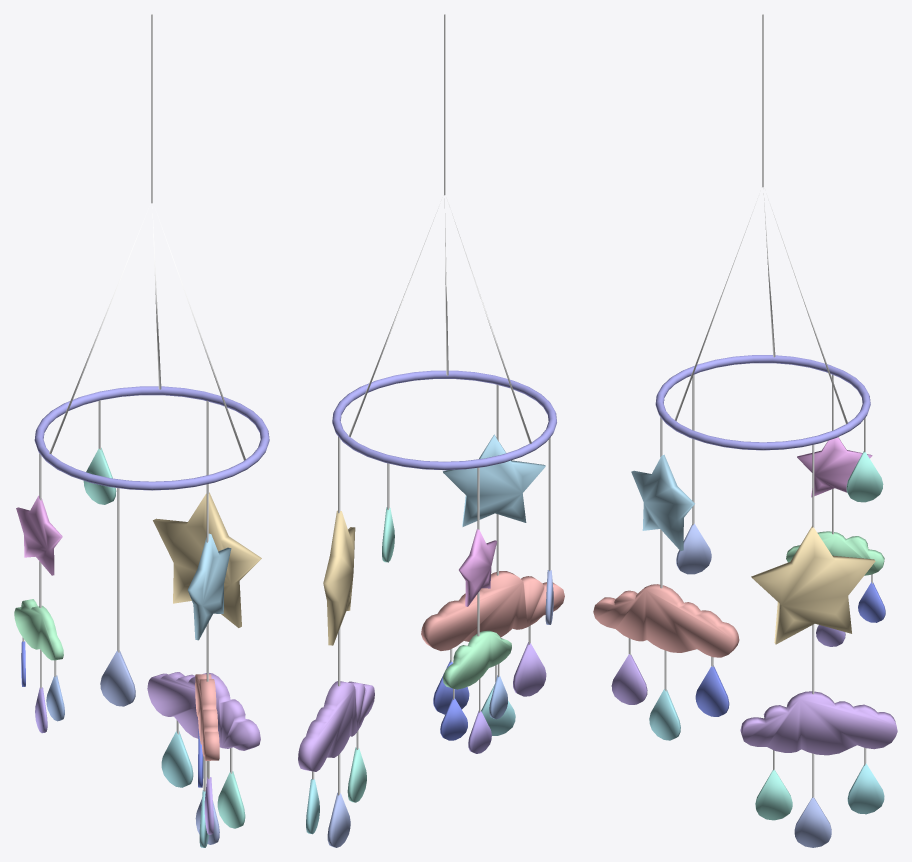
File: MOBILE.fbx
3 renders of one model, left to right at view 1: azimuth 30°, elevation 25°; view 2: azimuth 150°, elevation 25°; view 3: azimuth 270°, elevation 25°, orthographic. The views are drawn at different scales.
Parts seen in each view (by area): view 1: Plane; view 2: Plane; view 3: Plane.
Part boxes in pixels (left/top/right/bottom): Plane: left=14, top=14, right=269, bottom=847; Plane: left=298, top=14, right=564, bottom=847; Plane: left=593, top=14, right=897, bottom=847.
Bounding box in the file's own units: 0.5248 × 2.12 × 0.7346.
